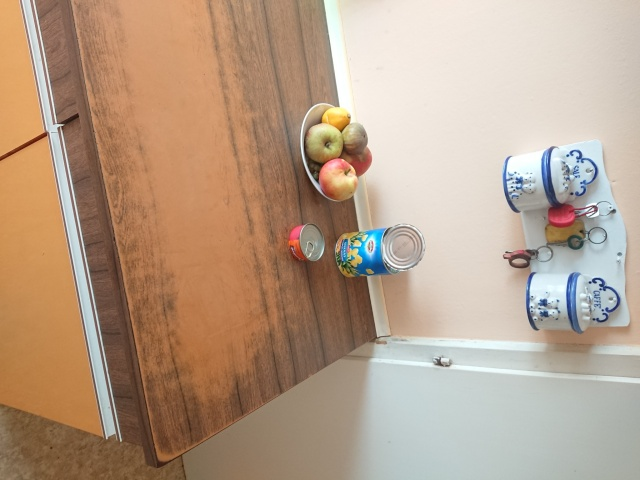Gavrilovic Pork Liver Pate 100g: (286, 221, 326, 263)
